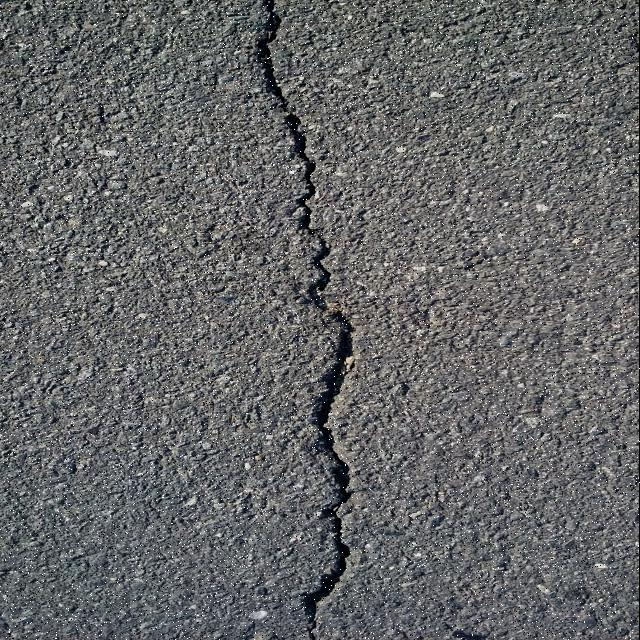Crack: (256, 0, 358, 640)
